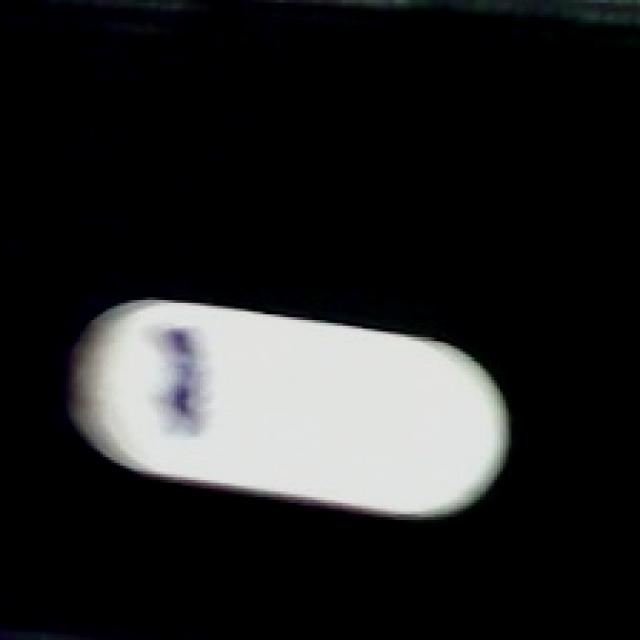defected: (57, 300, 512, 526)
